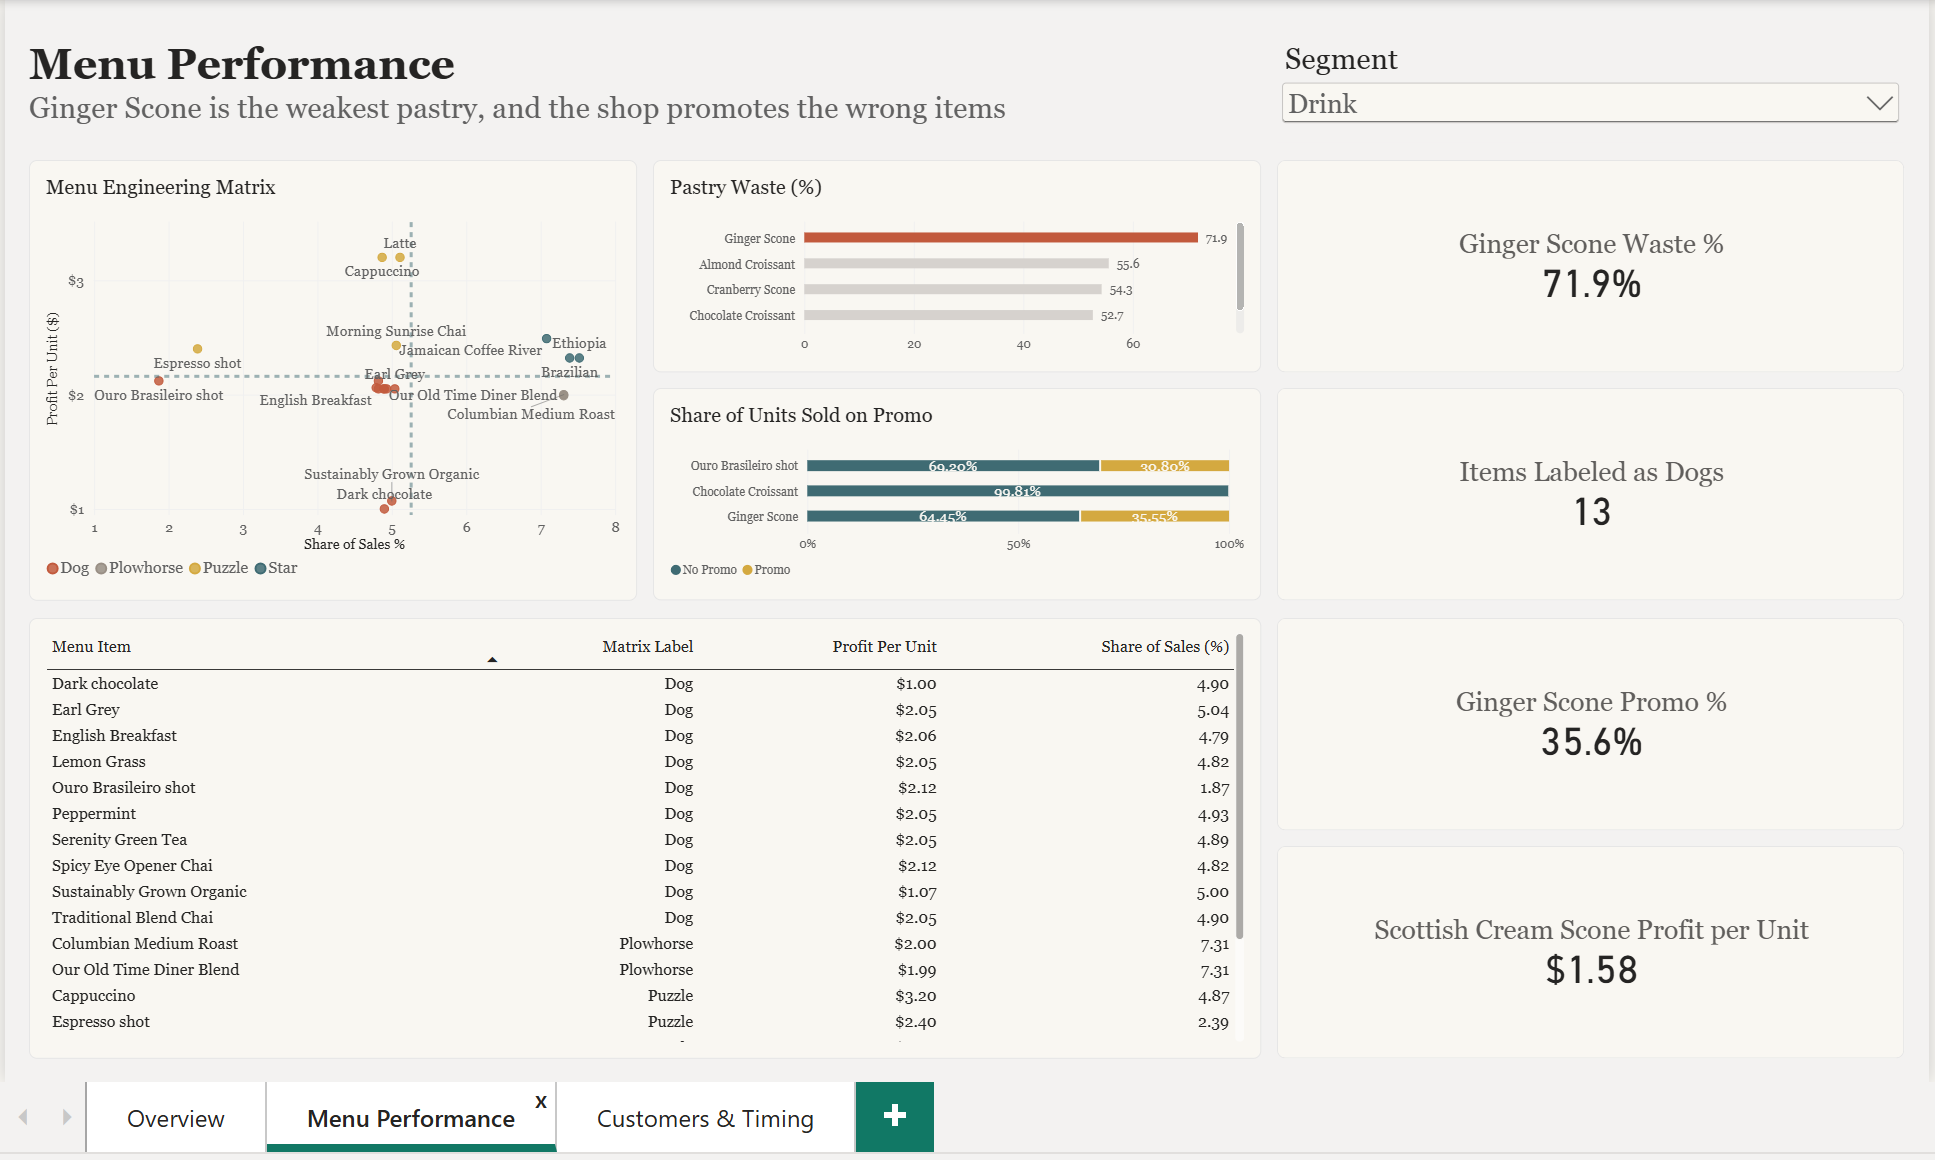

The dashboard page shown, as its layout file describes it:
{"tool":"powerbi","page":{"name":"Menu Performance","canvas":[1920,1080],"ordinal":1},"visuals":[{"type":"textbox","title":"Menu Performance","box":[24,40,1200,120],"z":0},{"type":"scatterChart","title":"Menu Engineering Matrix","fields":{"Category":["menu_matrix.menu_item"],"Series":["menu_matrix.matrix_label"],"X":["Avg(menu_matrix.menu_mix_pct)"],"Y":["Avg(menu_matrix.profit_per_unit)"]},"box":[24,160,607,440],"z":1000},{"type":"slicer","fields":{"Values":["menu_matrix.segment"]},"box":[1270,40.9,626,100],"z":2000},{"type":"tableEx","fields":{"Values":["menu_matrix.menu_item","menu_matrix.matrix_label","menu_matrix.profit_per_unit","menu_matrix.menu_mix_pct"]},"box":[24,616,1230,440],"z":3000},{"type":"clusteredBarChart","title":"Pastry Waste (%)","fields":{"Category":["pastry_waste.menu_item"],"Y":["Avg(pastry_waste.overall_waste_pct)"]},"box":[647,160,607,212],"z":4000},{"type":"hundredPercentStackedBarChart","title":"Share of Units Sold on Promo","fields":{"Category":["product.menu_item"],"Series":["sales_reciepts.Promo Status"],"Y":["sales_reciepts.Units Sold"]},"box":[647,388,607,212],"z":5000},{"type":"cardVisual","fields":{"Data":["sales_reciepts.Ginger Scone Waste %"]},"box":[1270,160,626,212],"z":6000},{"type":"cardVisual","fields":{"Data":["Count(menu_matrix.menu_item)"]},"box":[1270,388,626,212],"z":7000},{"type":"cardVisual","fields":{"Data":["sales_reciepts.Ginger Scone Promo %"]},"box":[1270,616,626,212],"z":8000},{"type":"cardVisual","fields":{"Data":["sales_reciepts.Scottish Cream Scone Profit per Unit"]},"box":[1270,844.4,626,212],"z":9000}]}

Visuals, with their boxes on the page's 1920x1080 design canvas (x1, y1, x2, y2). These are canvas units, not pixel positions in the 1935x1160 screenshot, which may show the page scaled, cropped or inside an application window:
"Menu Performance" textbox: bbox(24, 40, 1224, 160)
"Menu Engineering Matrix" scatterChart: bbox(24, 160, 631, 600)
slicer - menu_matrix.segment: bbox(1270, 41, 1896, 141)
tableEx - menu_matrix.menu_item x menu_matrix.matrix_label: bbox(24, 616, 1254, 1056)
"Pastry Waste (%)" clusteredBarChart: bbox(647, 160, 1254, 372)
"Share of Units Sold on Promo" hundredPercentStackedBarChart: bbox(647, 388, 1254, 600)
cardVisual - sales_reciepts.Ginger Scone Waste %: bbox(1270, 160, 1896, 372)
cardVisual - Count(menu_matrix.menu_item): bbox(1270, 388, 1896, 600)
cardVisual - sales_reciepts.Ginger Scone Promo %: bbox(1270, 616, 1896, 828)
cardVisual - sales_reciepts.Scottish Cream Scone Profit per Unit: bbox(1270, 844, 1896, 1056)
